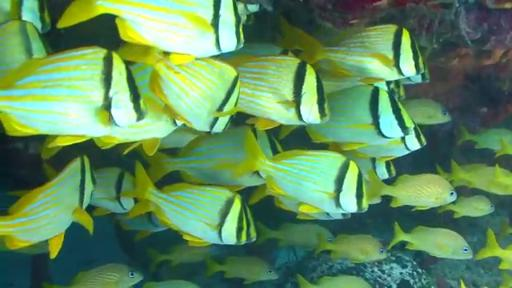Fish: (0, 47, 146, 147), (56, 0, 243, 57), (129, 163, 255, 245), (0, 156, 95, 259), (280, 18, 426, 83), (95, 64, 181, 155), (251, 149, 367, 213), (228, 56, 328, 129), (147, 126, 264, 187), (306, 85, 415, 150), (149, 58, 240, 132), (368, 174, 456, 210), (388, 223, 472, 259), (0, 20, 49, 76), (352, 125, 426, 160), (438, 160, 511, 195), (256, 223, 333, 250), (91, 168, 135, 215), (315, 235, 388, 263), (207, 256, 279, 284), (66, 264, 143, 287), (275, 196, 351, 219), (148, 244, 211, 271), (0, 0, 51, 33), (343, 151, 395, 180), (116, 212, 169, 240), (476, 228, 511, 269), (458, 127, 511, 151), (401, 99, 451, 124), (217, 44, 292, 60), (439, 196, 495, 217), (159, 125, 204, 150), (320, 74, 365, 94), (252, 128, 283, 157), (297, 275, 371, 287), (0, 237, 48, 255), (237, 1, 262, 23), (143, 280, 199, 287), (499, 220, 511, 239), (500, 272, 511, 287)
